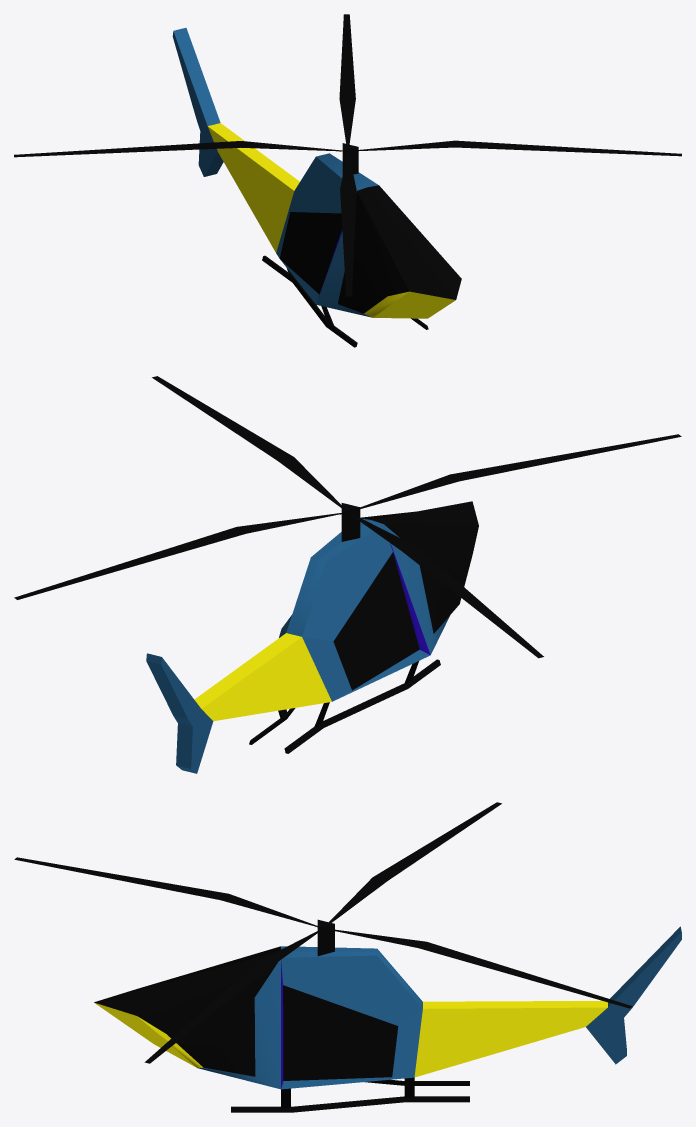
File: HelicopterA.fbx
3 renders of one model, top to bottom at view 1: azimuth 30°, elevation 25°; view 2: azimuth 150°, elevation 25°; view 3: azimuth 270°, elevation 25°, orthographic. The views are drawn at different scales.
Parts seen in each view (by area): view 1: HelicopterA, HeliA; view 2: HelicopterA, HeliA; view 3: HelicopterA, HeliA.
Boxes of the visible parts, x1,y1,x2,y2 form: HelicopterA: (172,28,461,347); HeliA: (14,14,681,296); HelicopterA: (146,501,478,773); HeliA: (14,376,681,658); HelicopterA: (94,919,681,1112); HeliA: (14,802,632,1063).
Size of the model in its own units: 600 by 185 by 648.
1 material, 1 textured.
